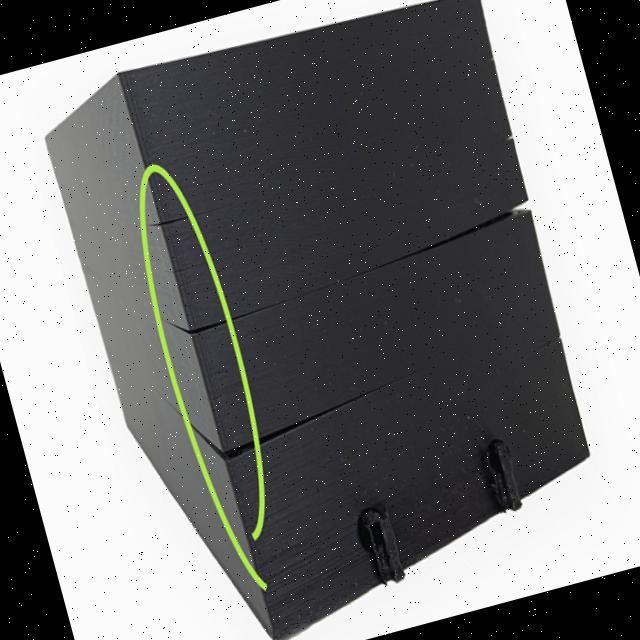cracks: (142, 202, 264, 512), (397, 169, 553, 280)
